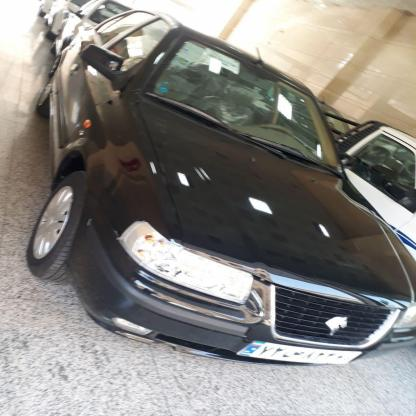Car: (22, 20, 397, 380), (334, 113, 416, 282), (57, 0, 126, 49)
